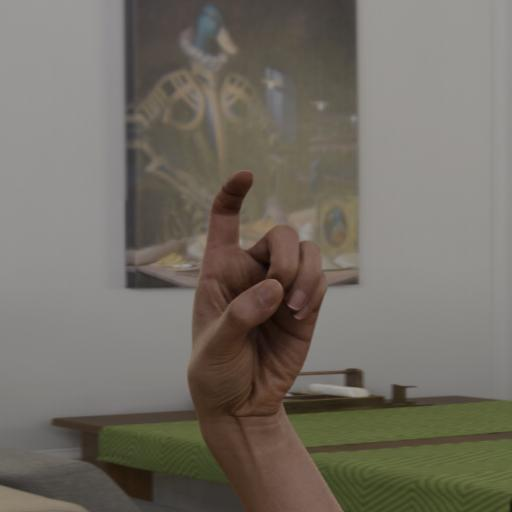X: (179, 166, 341, 462)
